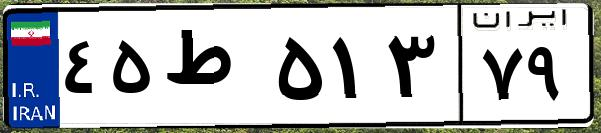1: (330, 28, 385, 110)
3: (385, 28, 445, 110)
4: (57, 26, 110, 100)
5: (270, 28, 330, 110), (110, 28, 158, 98)
7: (475, 38, 525, 113)
9: (525, 38, 570, 115)
ط: (158, 20, 270, 120)
